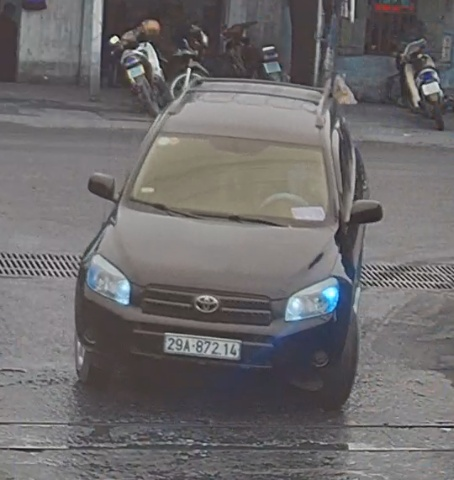vehicle plate: (154, 327, 246, 363)
